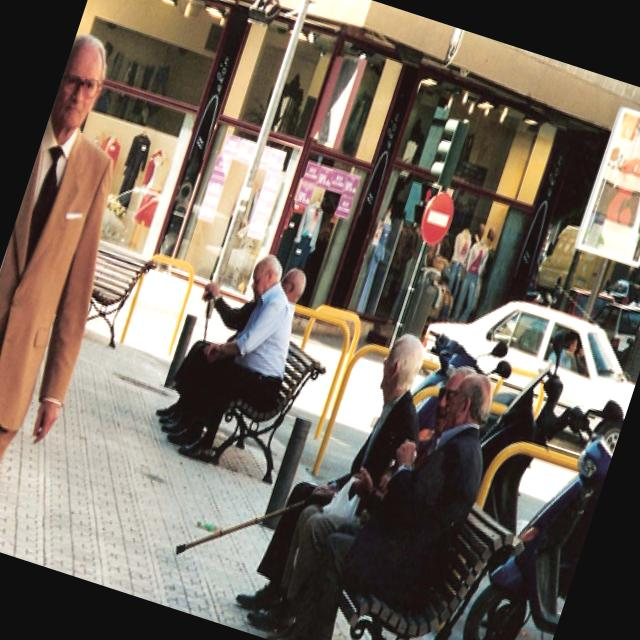Vehicle: (456, 316, 640, 557), (408, 275, 640, 453), (453, 417, 616, 640)
